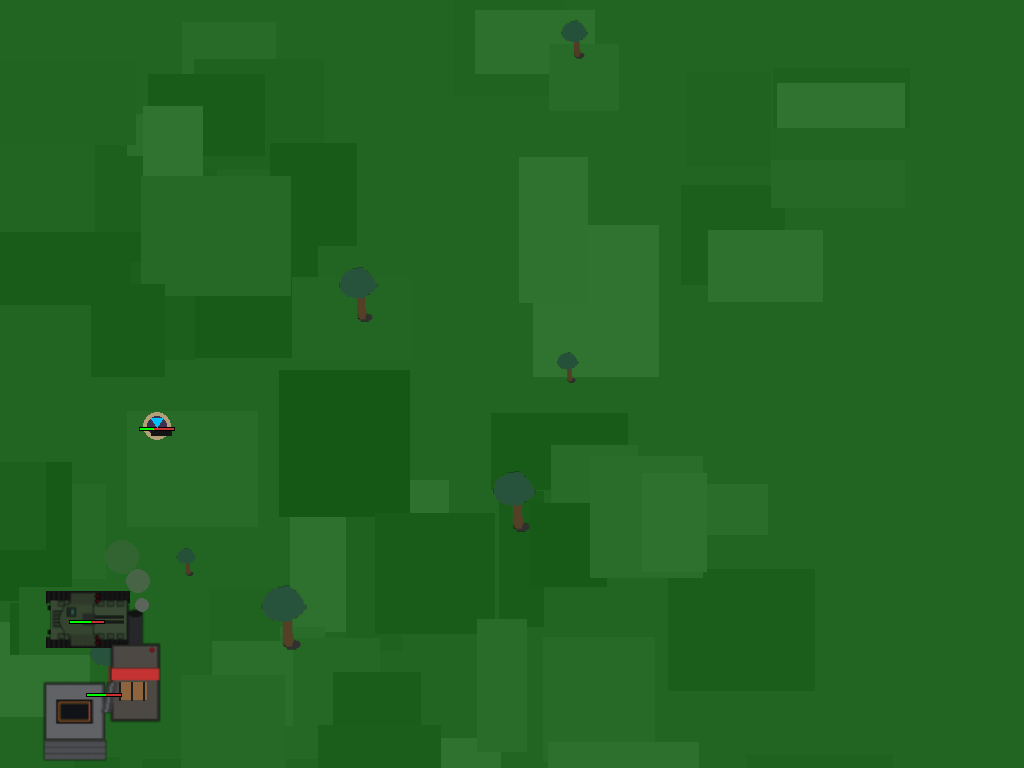MiningRig: (38, 626, 170, 758)
RocketTrooper: (135, 404, 178, 447)
TerminatorIFV: (55, 586, 119, 650)
